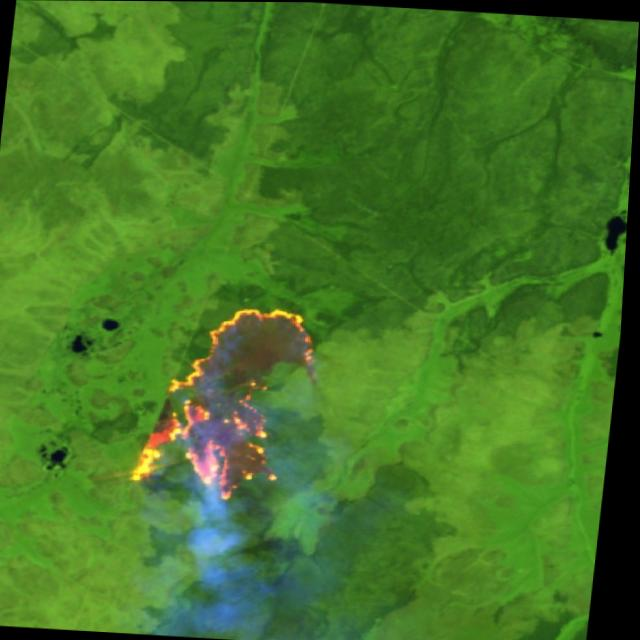fire: (131, 293, 330, 507)
